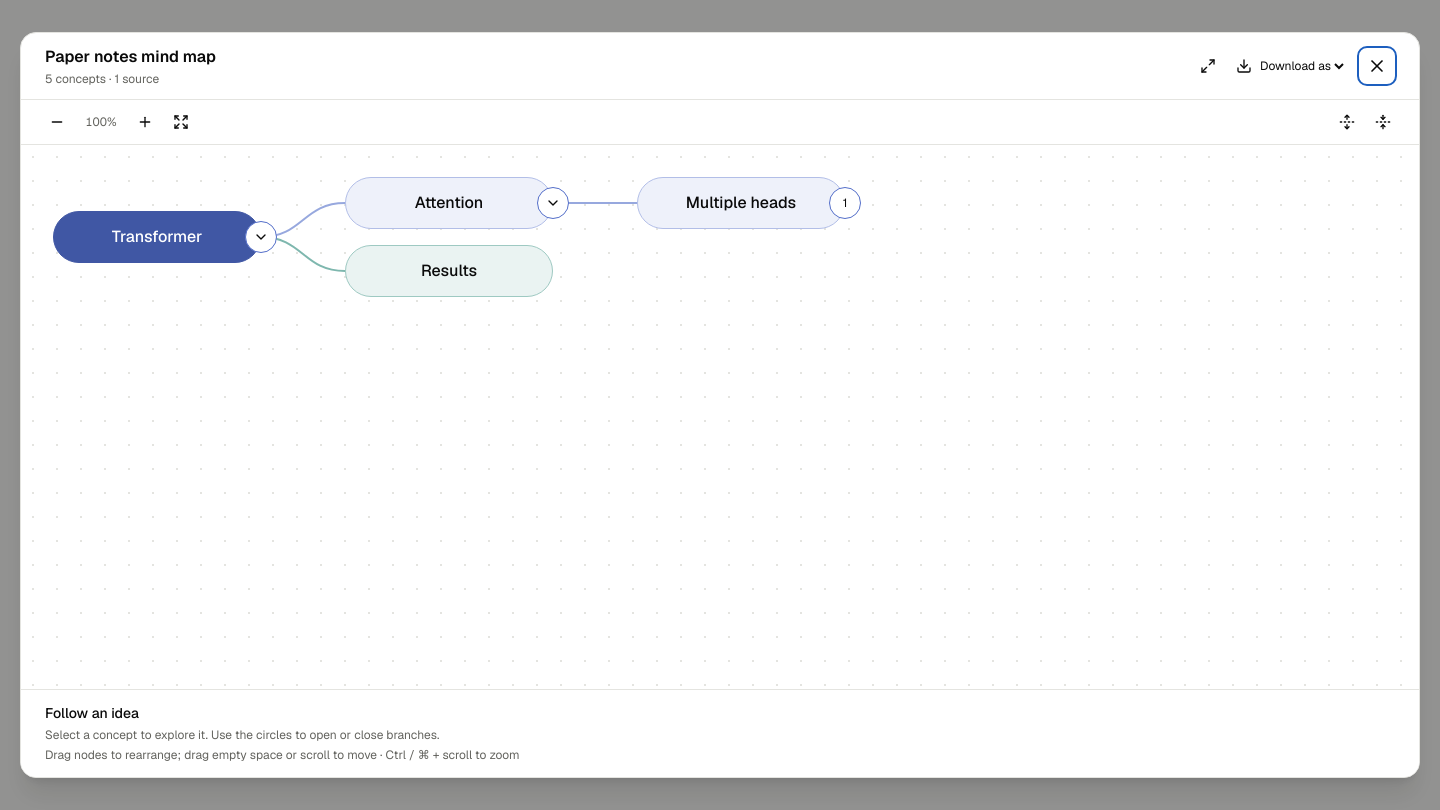
Test case: mind map exploration › switches to a full-screen view and retains the map controls
Click the button named "Enter full screen" at point(1208, 66), box [1192, 50, 1224, 82]
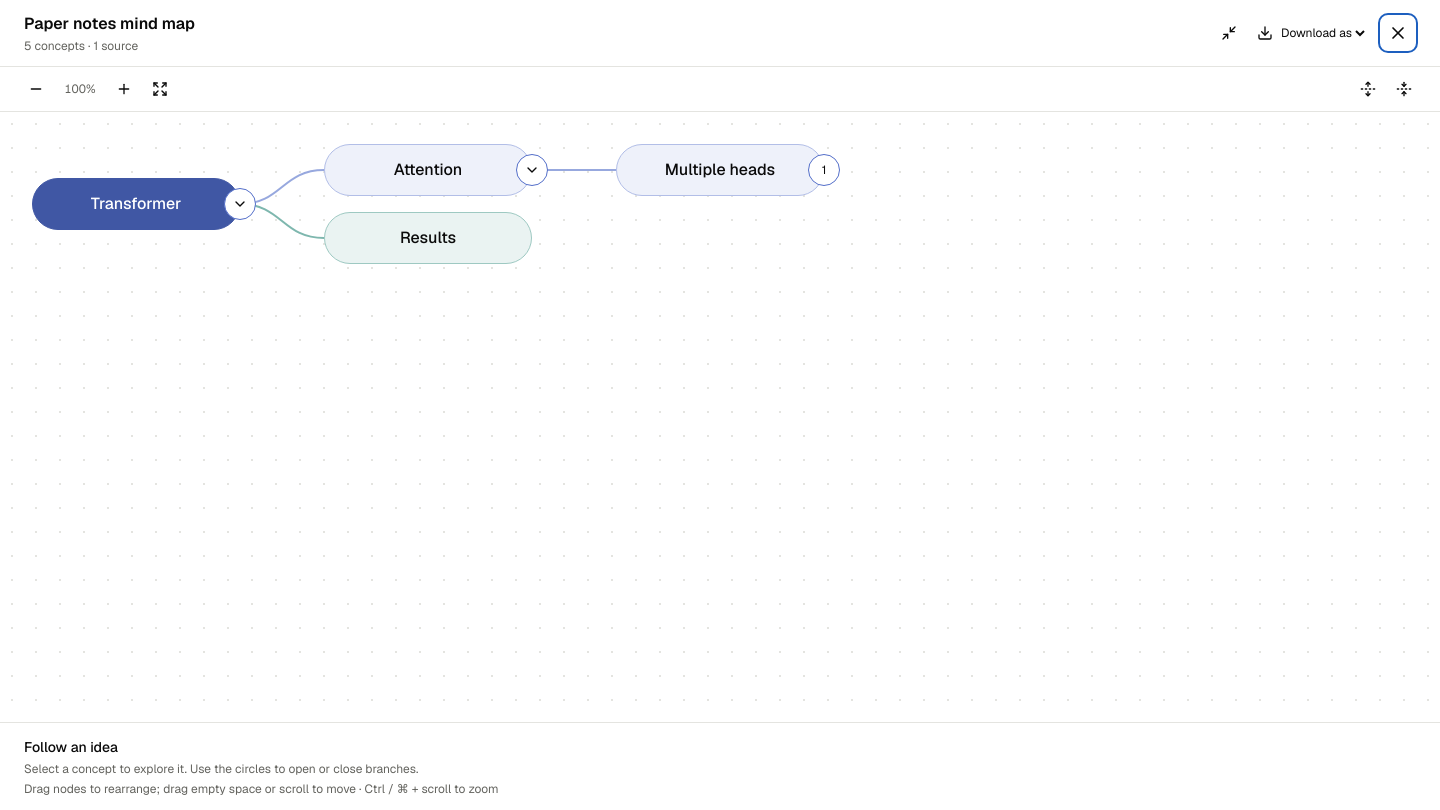
Check: the button named "Fit to view" is shown, box [144, 73, 176, 105]
Check: the button named "Exit full screen" is shown, box [1213, 17, 1245, 49]
